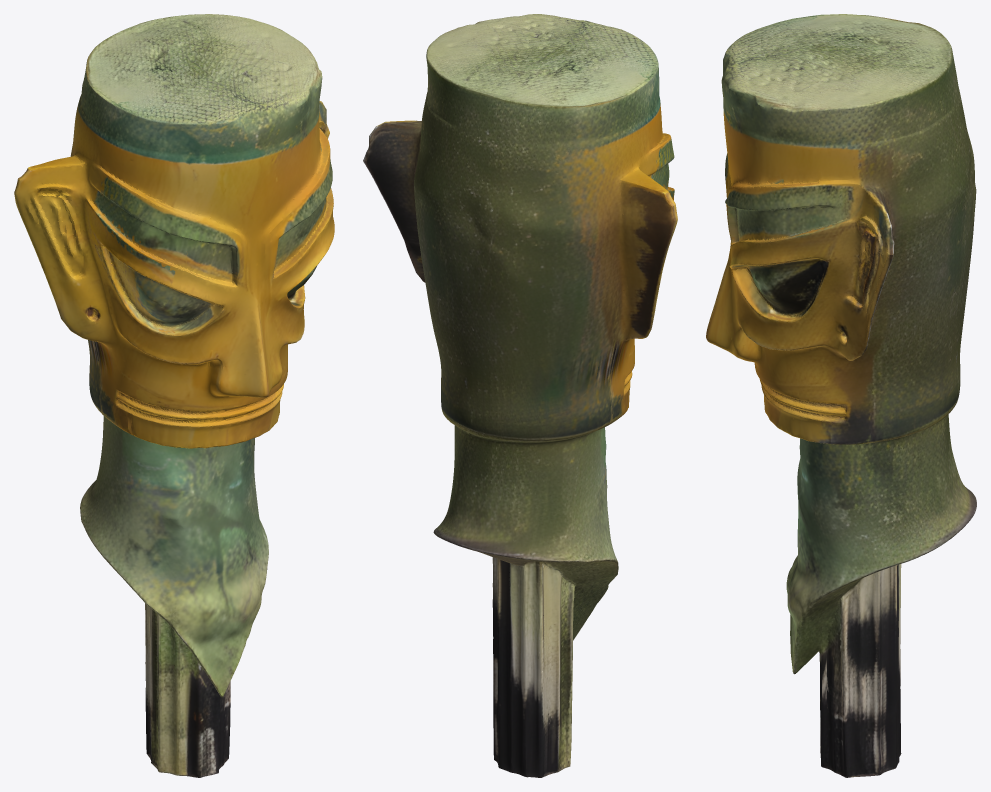
The model's file is base_basic_pbr.glb.
3 renders of one model, left to right at view 1: azimuth 30°, elevation 25°; view 2: azimuth 150°, elevation 25°; view 3: azimuth 270°, elevation 25°, orthographic.
Parts seen in each view (by area): view 1: model; view 2: model; view 3: model.
Part boxes in pixels (<box>): model: <box>14,14,334,777</box>; model: <box>363,14,677,777</box>; model: <box>706,14,976,777</box>.
Bounding box in the file's own units: 0.8844 × 1.9 × 0.6538.
1 material, 1 textured.
